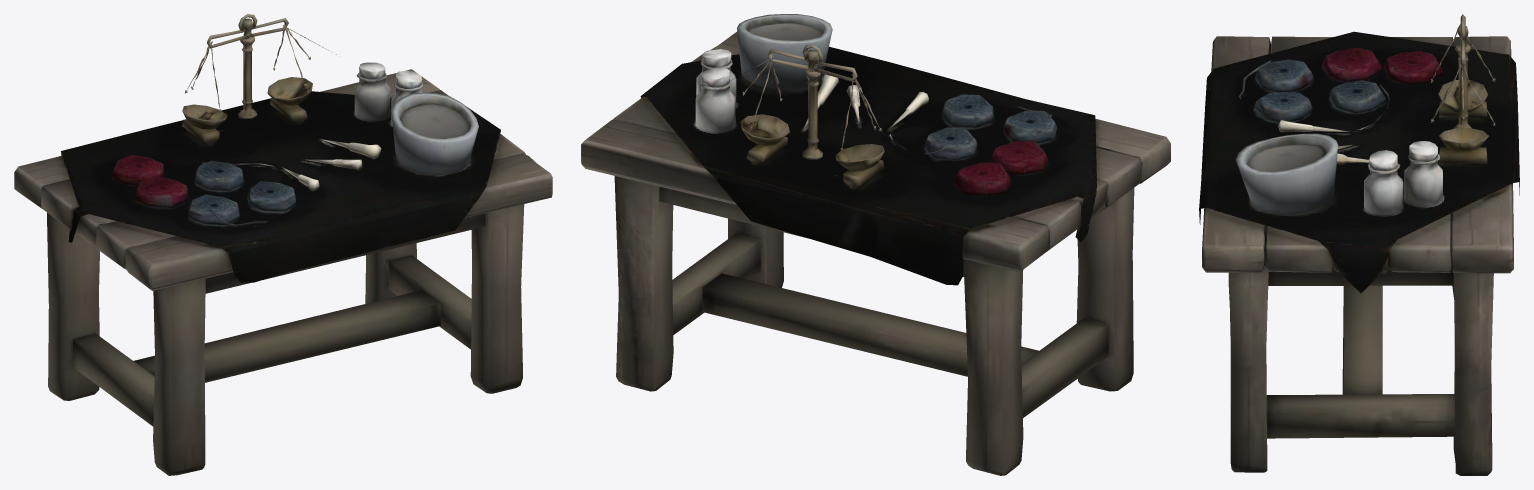
File: obj_table.glb
3 views of the same model, side by side, from view 1: azimuth 30°, elevation 25°; view 2: azimuth 150°, elevation 25°; view 3: azimuth 270°, elevation 25° (orthographic). The views are drawn at different scales.
Parts seen in each view (by area): view 1: model; view 2: model; view 3: model.
Boxes of the visible parts, bbox=[...] form: model: bbox=[14, 14, 552, 475]; model: bbox=[581, 14, 1170, 475]; model: bbox=[1199, 14, 1519, 475].
Size of the model in its own units: 1.24 by 1 by 0.7908.
Materials: 1 (1 with a texture image).
